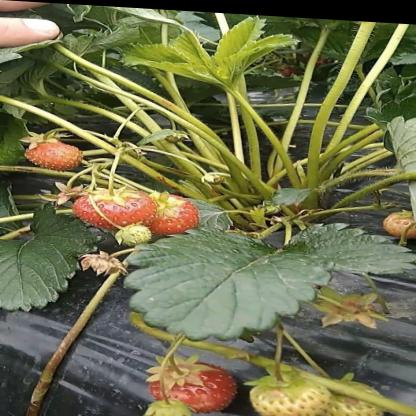ripe: (144, 358, 236, 410), (68, 187, 157, 227), (146, 192, 206, 237), (16, 142, 90, 172)
unripe: (246, 372, 334, 416), (323, 373, 388, 416), (112, 219, 158, 246), (135, 396, 197, 416), (380, 203, 416, 233)
